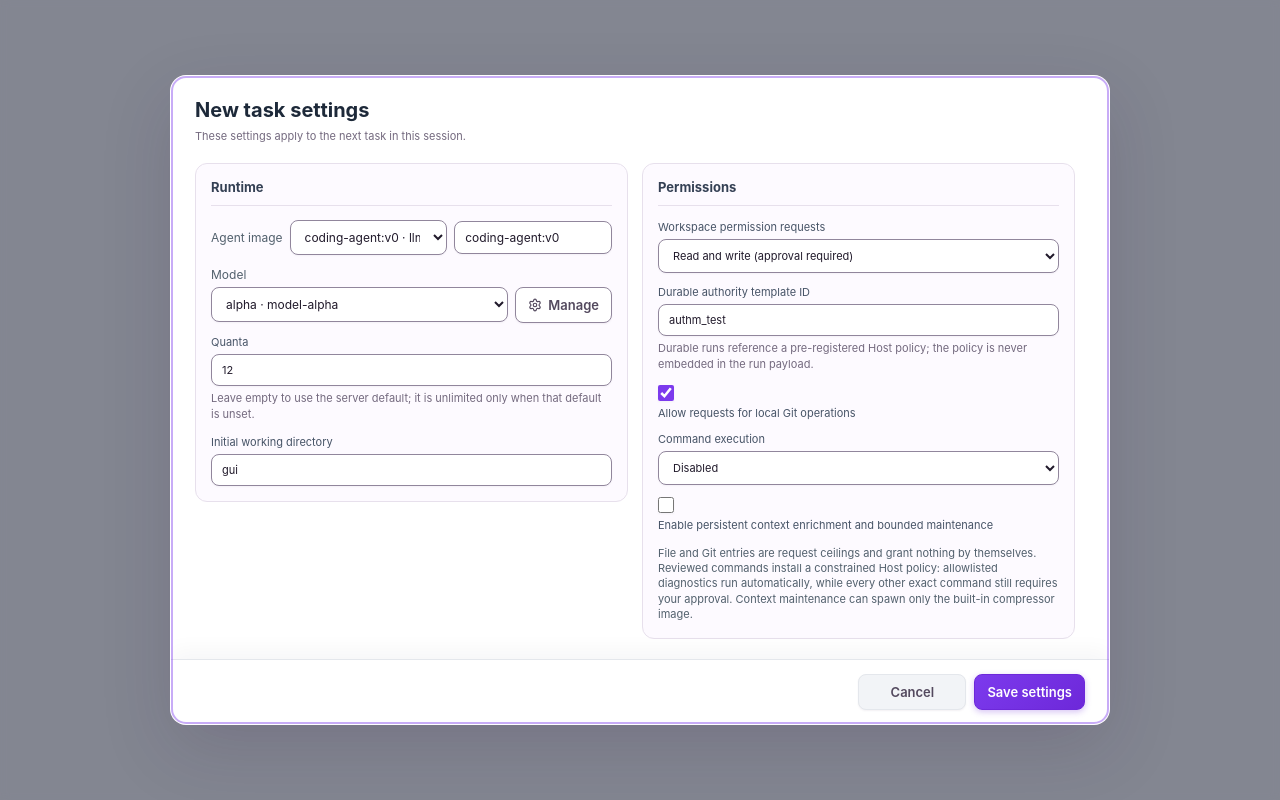
it: UserTaskSettingsDialog › falls back to the runtime default after deleting the selected profile
Click the button "Manage". click: (564, 305)
box: top-left (515, 287), bottom-right (612, 323)
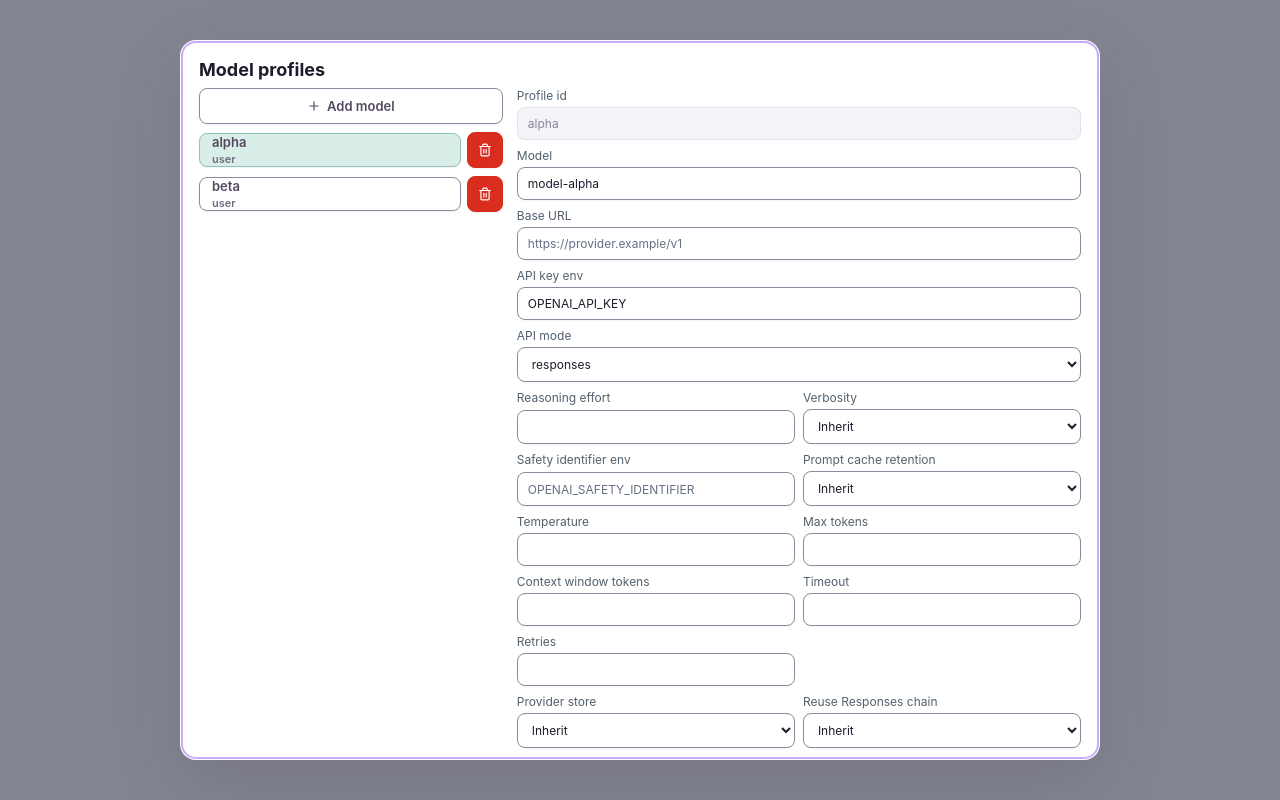
Click the button named "Delete profile: alpha". click: (485, 150)
box: top-left (467, 132), bottom-right (503, 168)
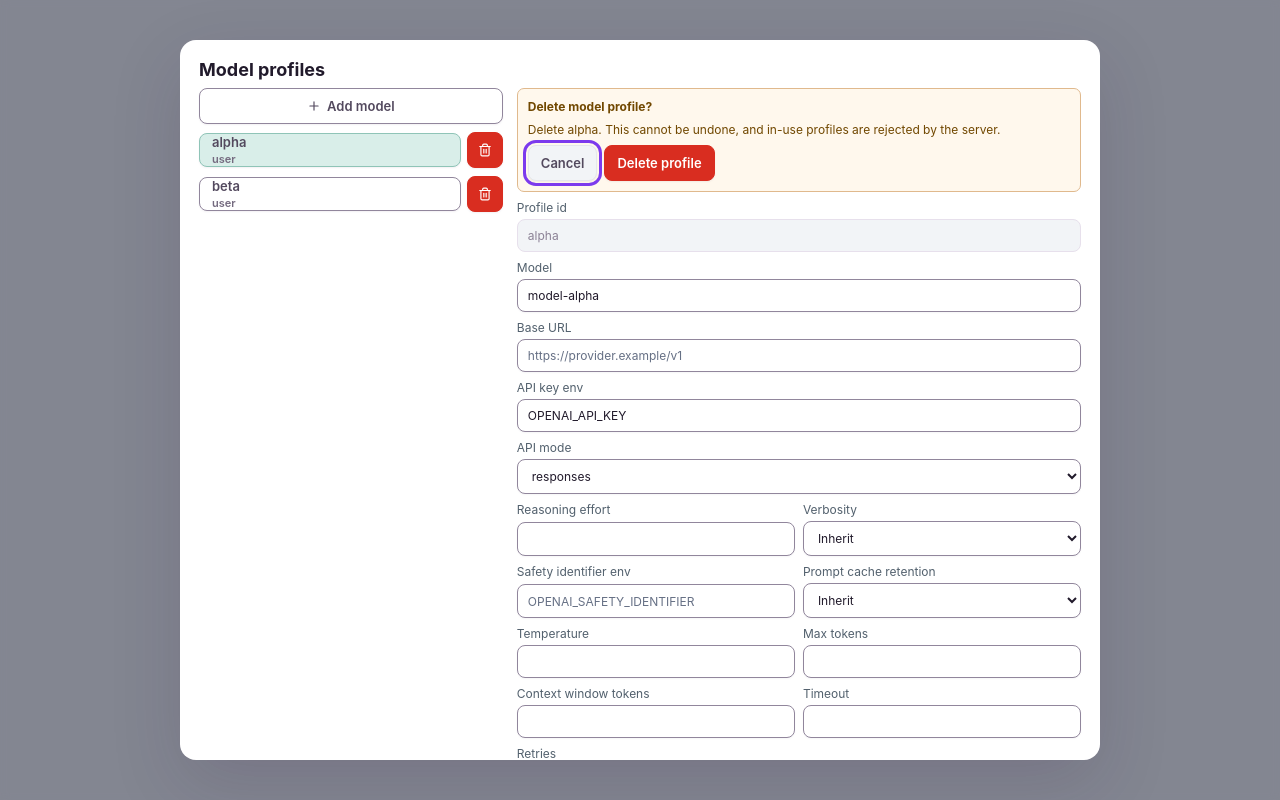
Click the button with class "danger" showing "Delete profile". click: (660, 163)
box: top-left (604, 145), bottom-right (715, 181)
(page scrolled)
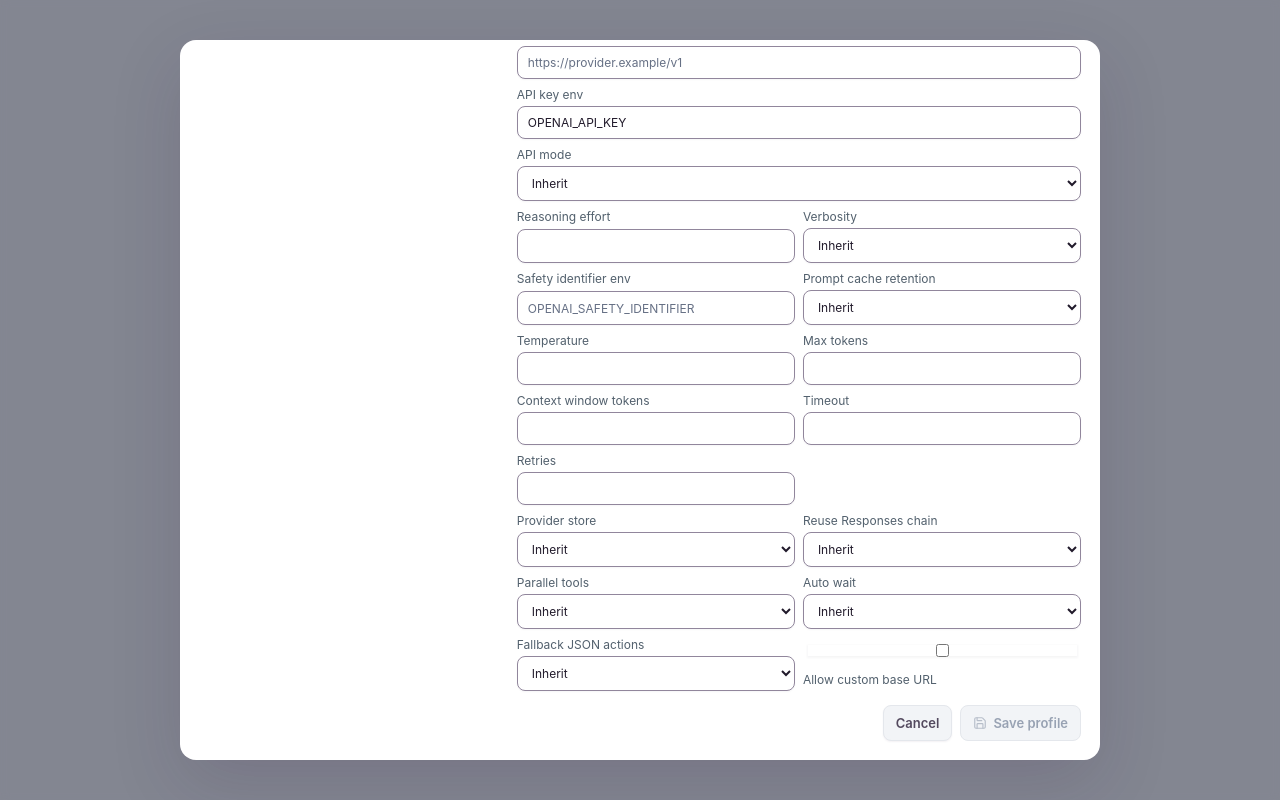
Click the button with class "secondary". click: (918, 723)
box: top-left (883, 705), bottom-right (952, 741)
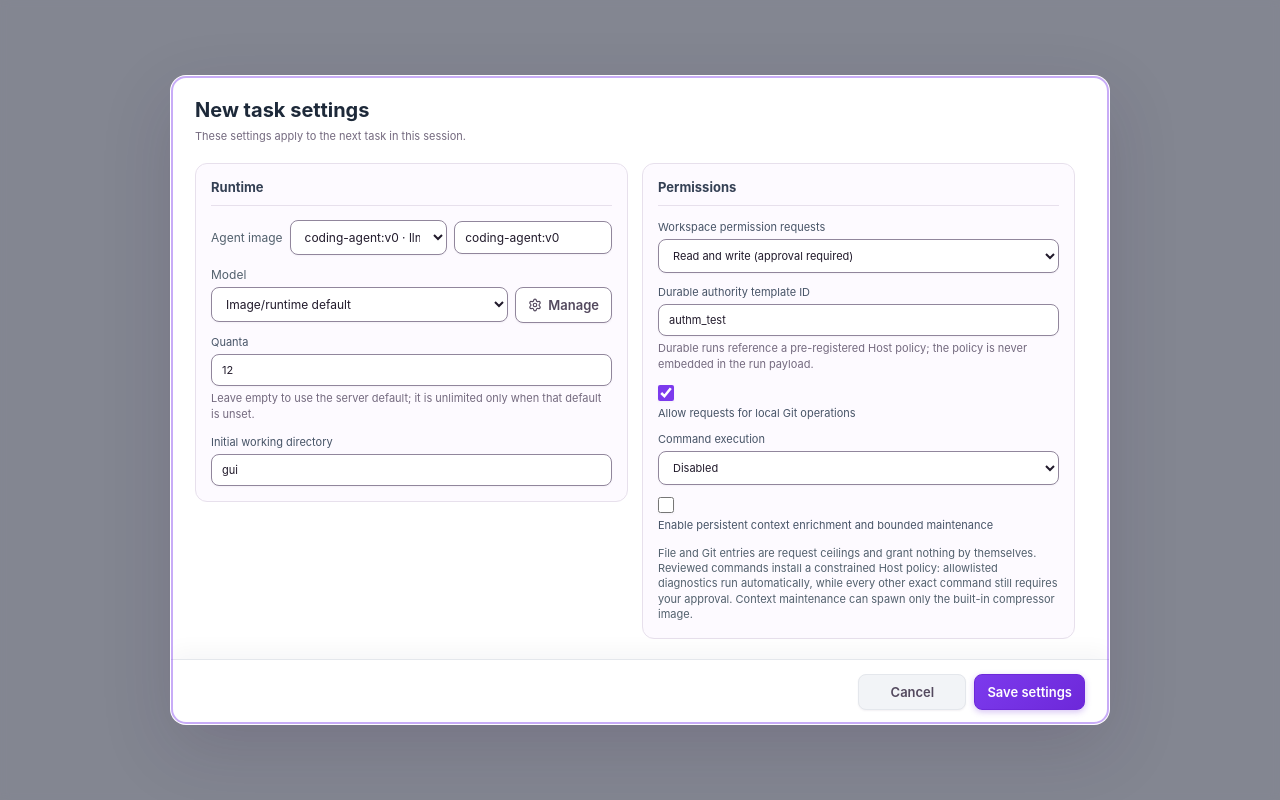
Expected: the number of dialogs is 1, top-left (170, 75), bottom-right (1110, 725)
Result: the dropdown labelled "Model" shows "Image/runtime default" at top-left (211, 287), bottom-right (508, 322)
